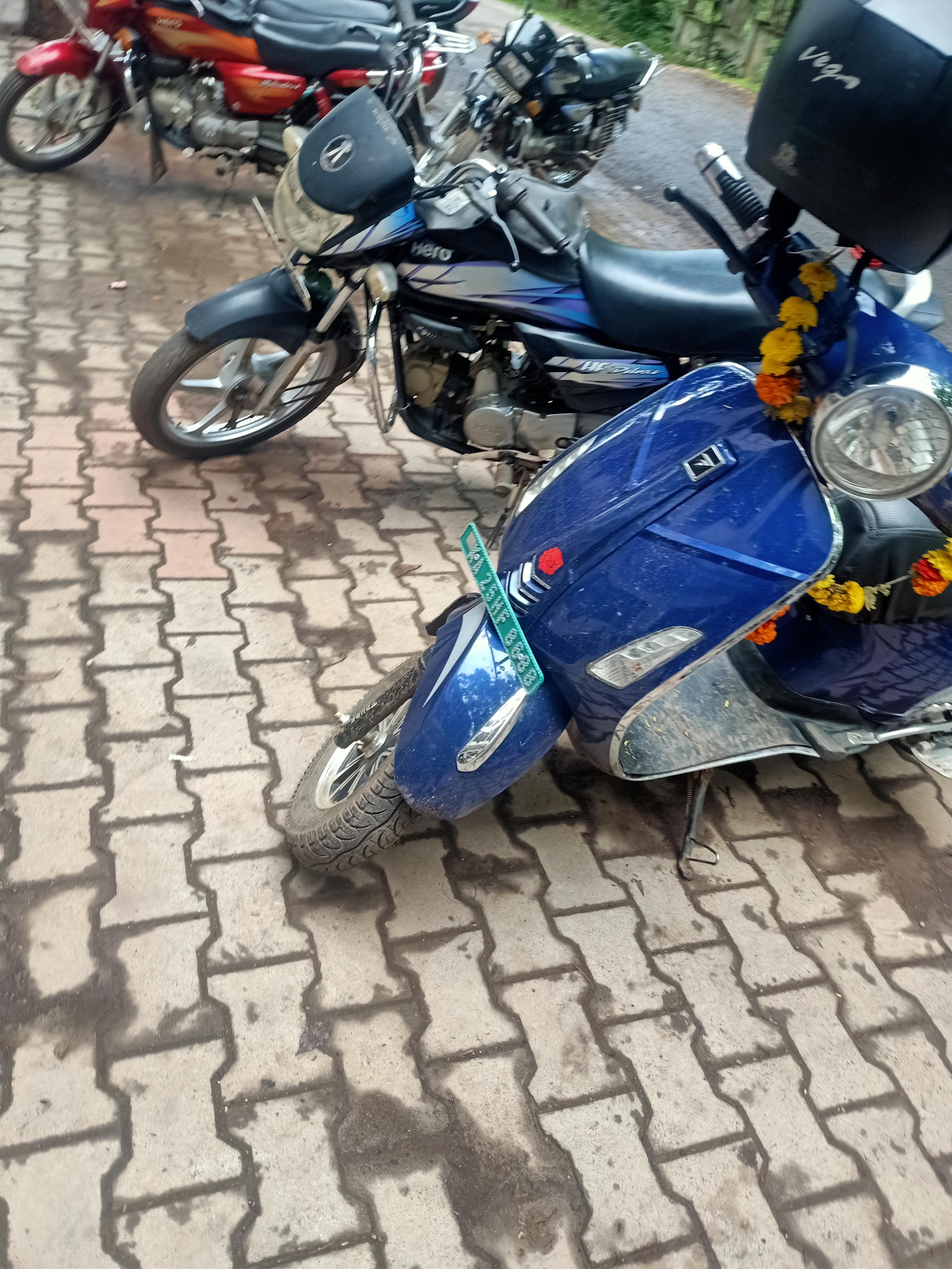green license plate: (457, 516, 546, 694)
